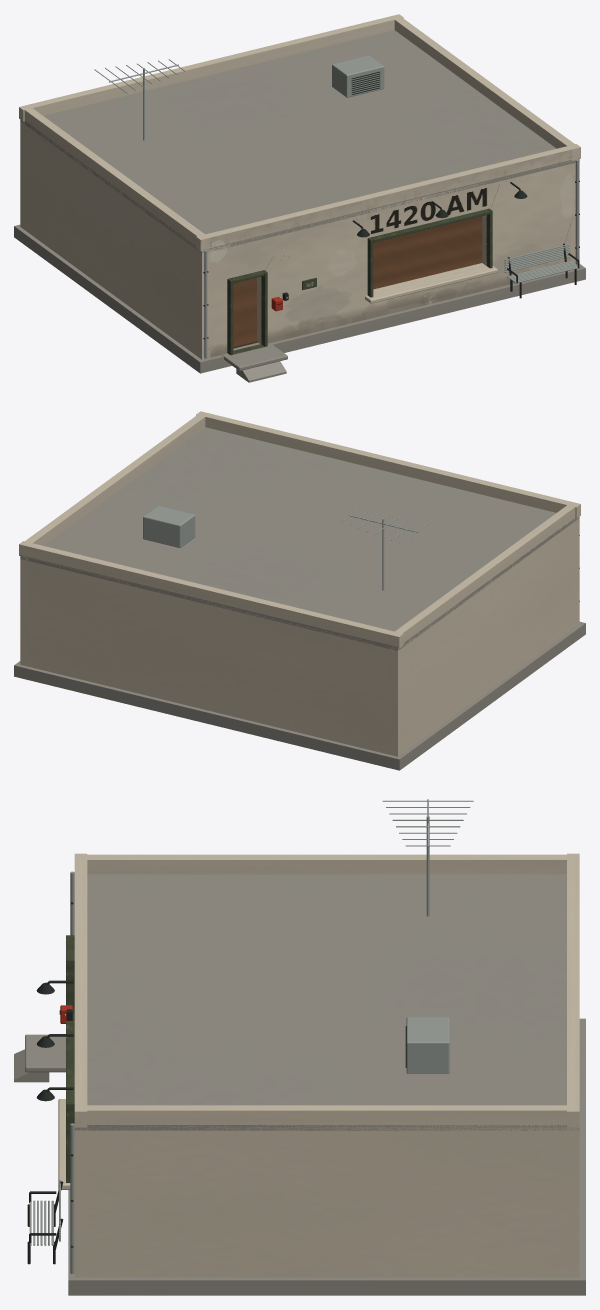
File: SM_1420_Shell.fbx
The picture shows the model from 3 angles, top to bottom: view 1: azimuth 30°, elevation 25°; view 2: azimuth 150°, elevation 25°; view 3: azimuth 270°, elevation 25°; orthographic projection. The views are drawn at different scales.
Parts seen in each view (by area): view 1: SM_1420_Shell; view 2: SM_1420_Shell; view 3: SM_1420_Shell.
Part boxes in pixels (x1,y1,x2,y2): SM_1420_Shell: (14, 14, 585, 382); SM_1420_Shell: (14, 411, 585, 770); SM_1420_Shell: (14, 799, 585, 1295).
Bounding box in the file's own units: 12.25 × 11.33 × 5.9.
